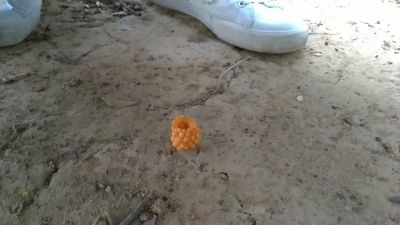eggs: (173, 114, 199, 151)
